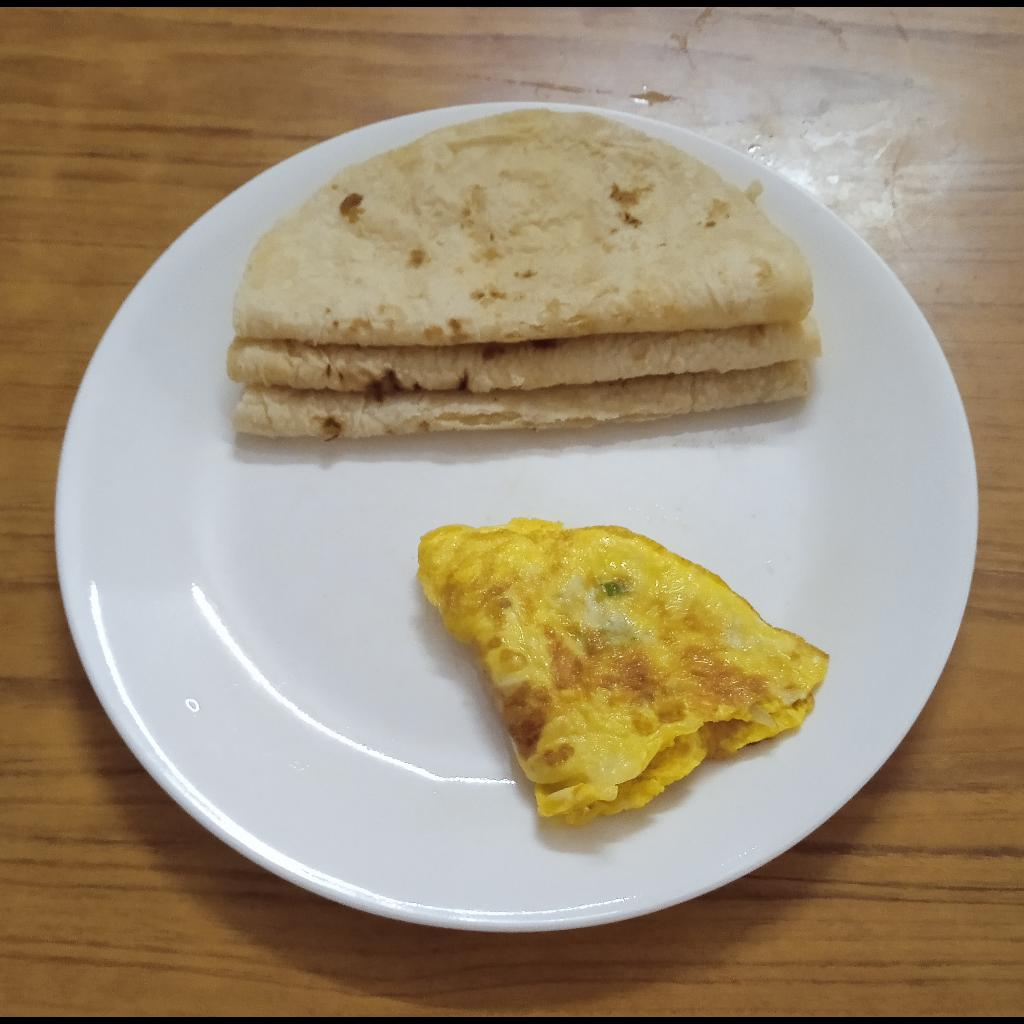egg-poached: (414, 514, 830, 826)
ruti: (225, 109, 823, 439)
